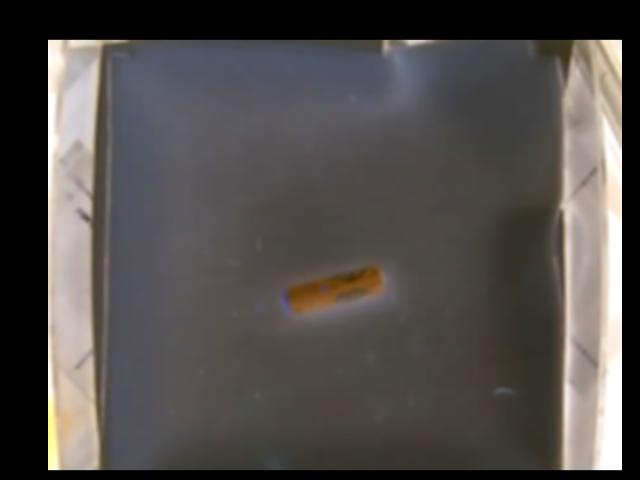Battery: (281, 264, 386, 311)
